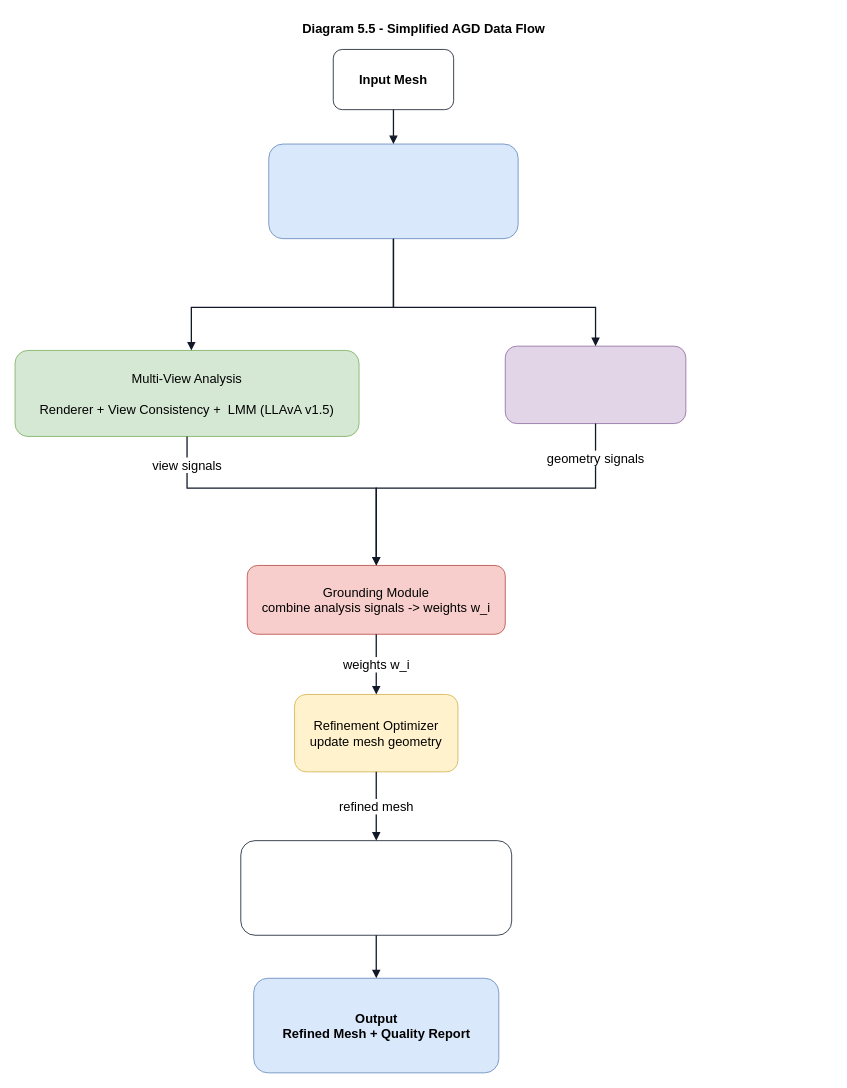
This 847x1088 diagram has some shape labels left out. The shapes that lost their labels are listed below. From the top down, each one's centre as x and y in pixels, then its label:
At pixel 393 191: "Preprocessing load, validate, normalize".
At pixel 595 384: "Geometry Analysis Discriminator + Critic".
At pixel 376 887: "Evaluation and Export hallucination score + geometry report".
